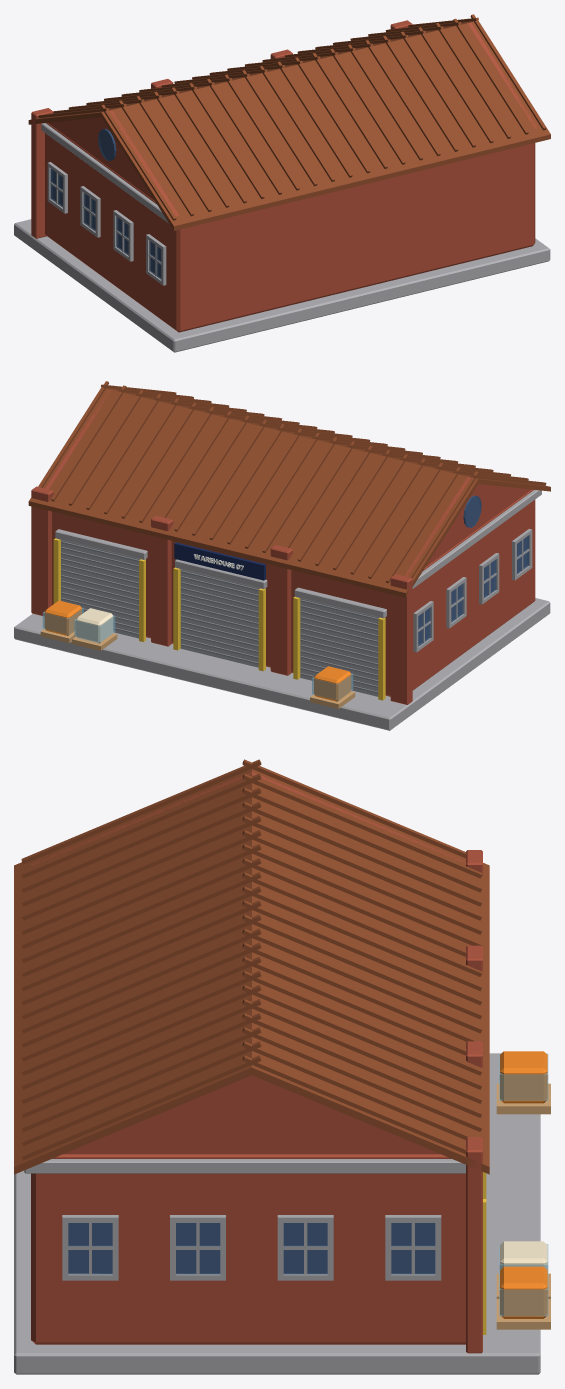
File: Warehouse.fbx
3 renders of one model, top to bottom at view 1: azimuth 30°, elevation 25°; view 2: azimuth 150°, elevation 25°; view 3: azimuth 270°, elevation 25°, orthographic. The views are drawn at different scales.
Parts seen in each view (by area): view 1: Warehouse_Rust, Warehouse_Brick, Warehouse_Concrete, Warehouse_GlassDark; view 2: Warehouse_Rust, Warehouse_Brick, Warehouse_Concrete, Warehouse_Metal, Warehouse_Grey, Warehouse_Yellow, Warehouse_Orange, Warehouse_Glass, Warehouse_GlassDark, Warehouse_Navy, Warehouse_Cream, Warehouse_WoodLight; view 3: Warehouse_Rust, Warehouse_Brick, Warehouse_Concrete, Warehouse_GlassDark, Warehouse_Orange, Warehouse_Glass, Warehouse_WoodLight, Warehouse_Cream.
Part boxes in pixels (x1=…): Warehouse_Rust: x1=28, y1=14, x2=550, y2=230; Warehouse_Brick: x1=31, y1=20, x2=537, y2=332; Warehouse_Concrete: x1=14, y1=123, x2=550, y2=352; Warehouse_GlassDark: x1=50, y1=128, x2=161, y2=279; Warehouse_Rust: x1=28, y1=381, x2=550, y2=597; Warehouse_Brick: x1=31, y1=389, x2=535, y2=704; Warehouse_Concrete: x1=14, y1=490, x2=550, y2=730; Warehouse_Metal: x1=61, y1=540, x2=379, y2=696; Warehouse_Grey: x1=61, y1=541, x2=378, y2=693; Warehouse_Yellow: x1=53, y1=538, x2=385, y2=700; Warehouse_Orange: x1=44, y1=600, x2=351, y2=701; Warehouse_Glass: x1=42, y1=607, x2=353, y2=700; Warehouse_GlassDark: x1=418, y1=495, x2=528, y2=646; Warehouse_Navy: x1=174, y1=542, x2=265, y2=580; Warehouse_Cream: x1=76, y1=608, x2=113, y2=643; Warehouse_WoodLight: x1=40, y1=629, x2=355, y2=708; Warehouse_Rust: x1=14, y1=759, x2=489, y2=1174; Warehouse_Brick: x1=31, y1=772, x2=482, y2=1353; Warehouse_Concrete: x1=14, y1=1053, x2=540, y2=1374; Warehouse_GlassDark: x1=68, y1=1223, x2=435, y2=1274; Warehouse_Orange: x1=500, y1=1051, x2=547, y2=1318; Warehouse_Glass: x1=499, y1=1053, x2=548, y2=1316; Warehouse_WoodLight: x1=496, y1=1083, x2=550, y2=1329; Warehouse_Cream: x1=500, y1=1241, x2=547, y2=1269.
Bounding box in the file's own units: 42 × 20.54 × 31.6.
